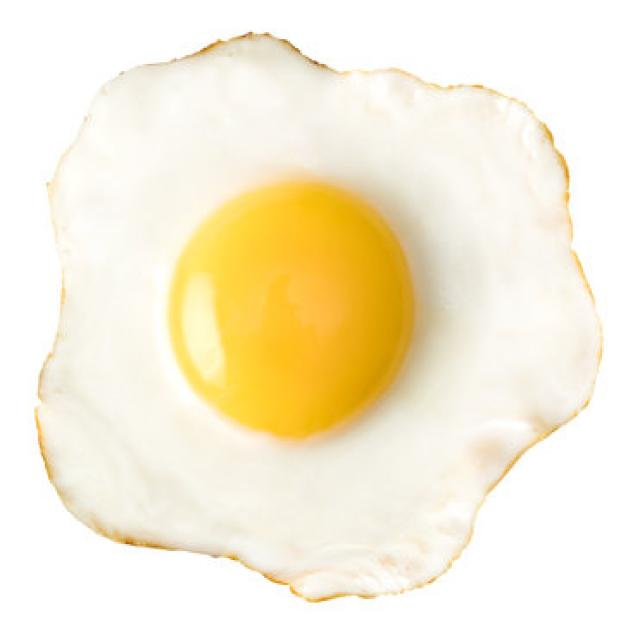Egg: (38, 35, 600, 598)
